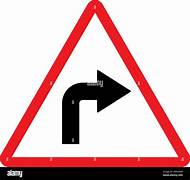right: (1, 1, 190, 168)
